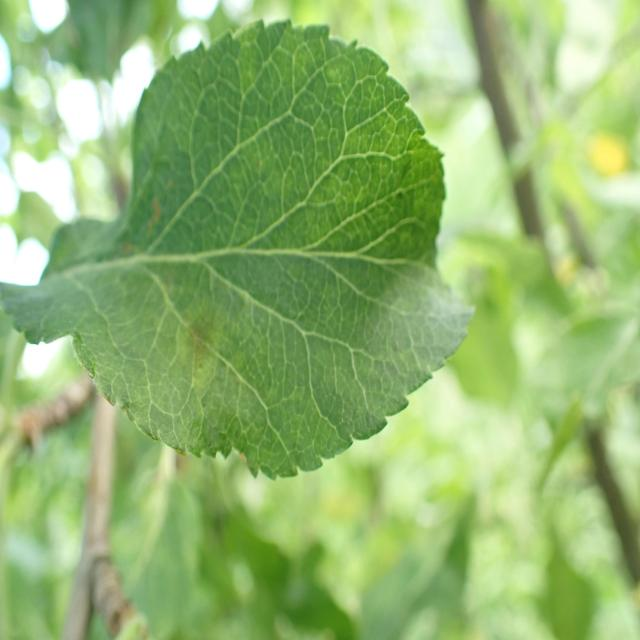scab: (86, 148, 278, 474)
